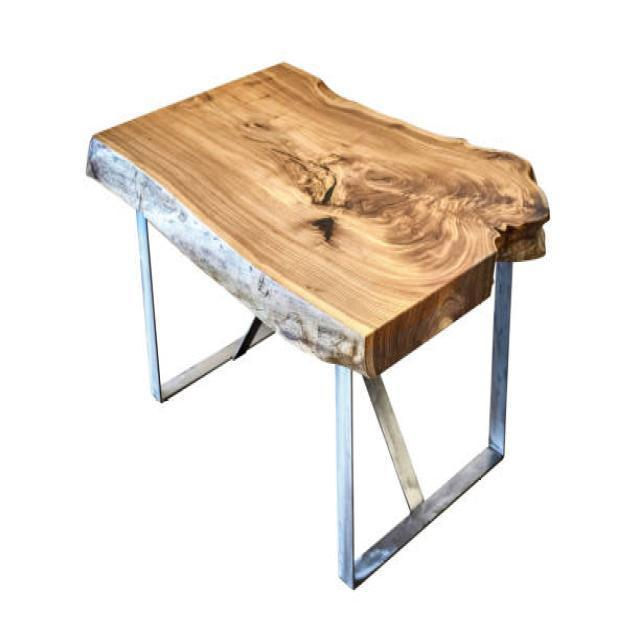table: (84, 60, 550, 590)
